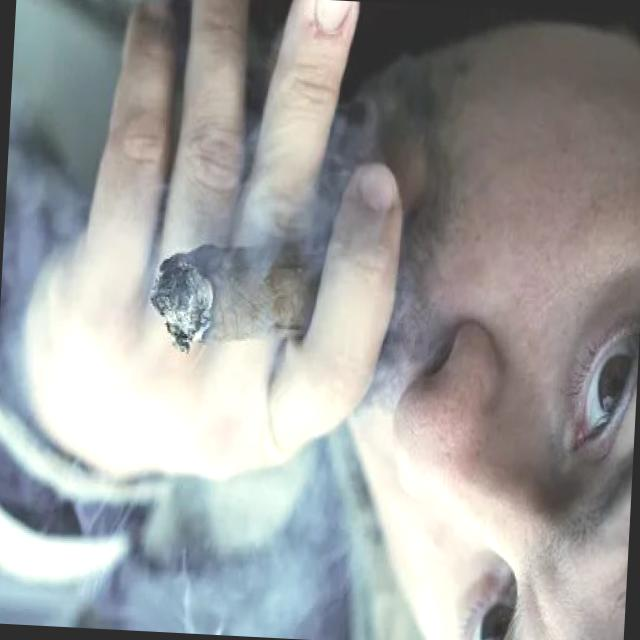cigarette: (148, 222, 337, 380)
